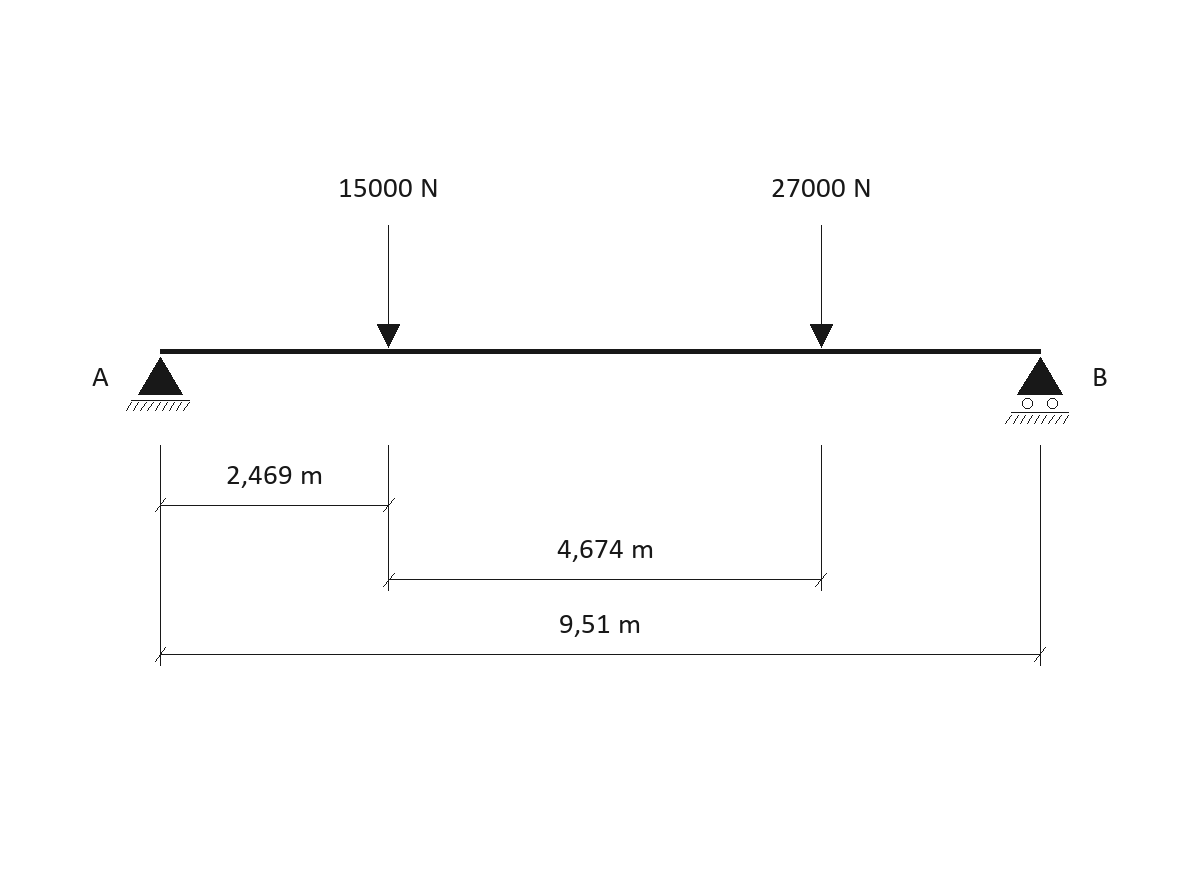pin_support: (126, 357, 190, 411)
point_load: (377, 225, 400, 348), (810, 225, 833, 348)
roller_support: (1005, 357, 1069, 424)
